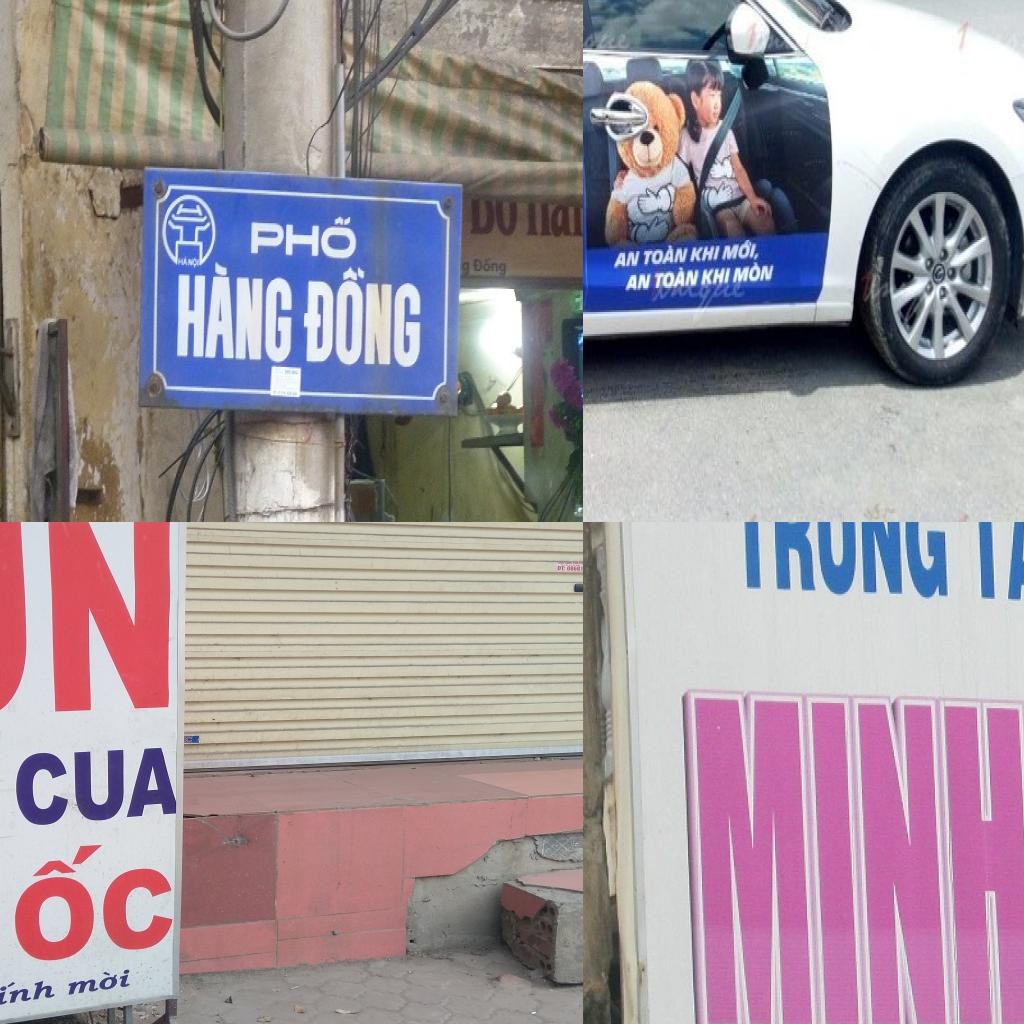text: (678, 685, 1024, 1024), (0, 522, 184, 729), (0, 835, 174, 965), (727, 522, 950, 600), (5, 744, 183, 828), (300, 265, 428, 379), (169, 266, 295, 368), (248, 201, 371, 262), (963, 522, 1024, 607), (63, 965, 137, 1000), (0, 970, 58, 1014), (654, 262, 704, 297), (722, 236, 770, 264), (642, 242, 690, 269), (686, 240, 722, 266), (471, 255, 512, 277), (614, 244, 646, 271), (702, 264, 734, 288), (626, 272, 655, 294), (462, 256, 472, 279), (552, 564, 570, 574), (187, 256, 202, 267), (177, 254, 188, 266)
